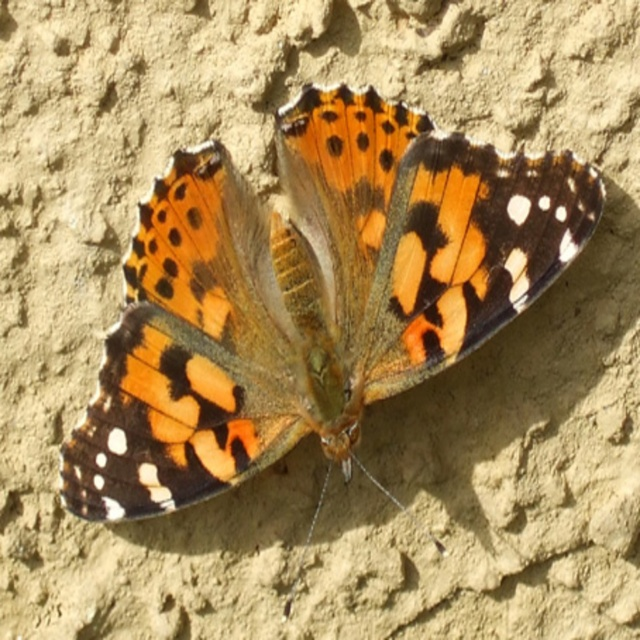Butterfly: (82, 75, 617, 544)
